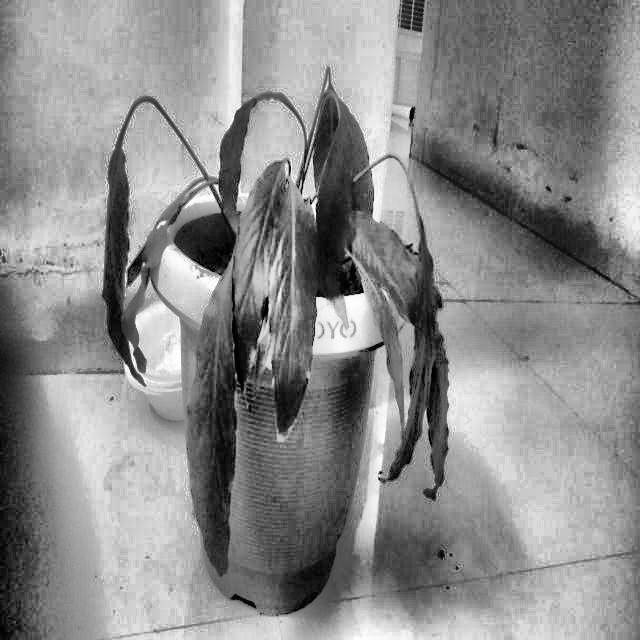plants: (100, 66, 462, 622)
